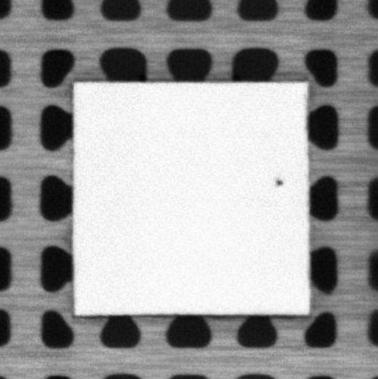DIE_INK: (273, 177, 285, 187)
